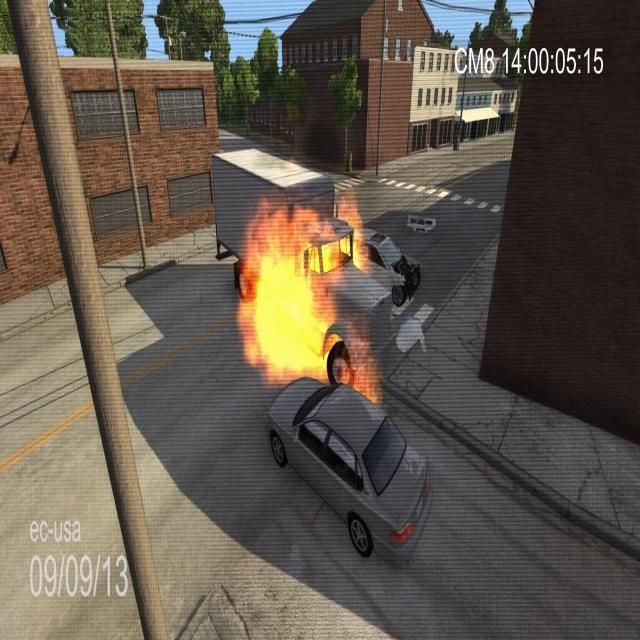low-cars-accident: (239, 204, 406, 374)
